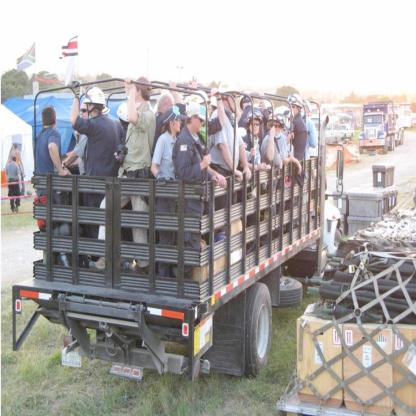Truck: (13, 76, 346, 378)
